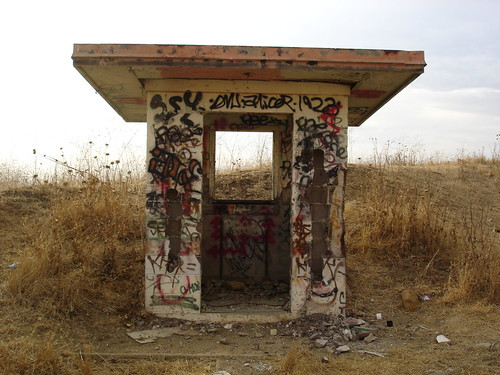building: (80, 40, 396, 312)
graffiti: (148, 97, 207, 302), (294, 88, 344, 306), (203, 213, 288, 283), (204, 90, 297, 113)
sky: (1, 1, 500, 150)
vegetation: (361, 158, 500, 315), (1, 185, 132, 326)
